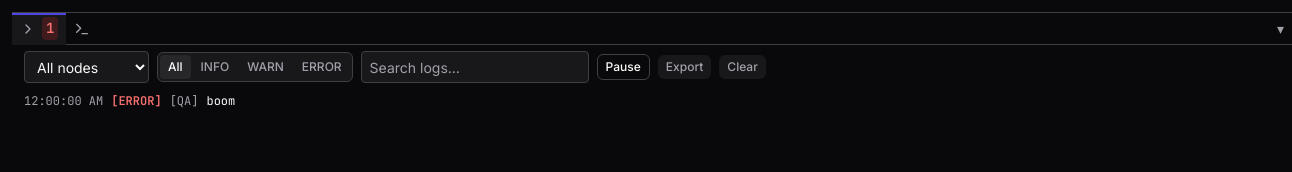
Test: badge de erros aparece UMA vez no tab bar — não duplica no hint colapsado (T8 F3)
The width and height of the screenshot is (1292, 172).
expect the button named "Console" reads "1": met, box [12,12,66,44]
What coordinates should you click on to do the following:
click the button named "Collapse console"
I would click on:
 (1280, 28)
Its box is [1273,14,1288,43].
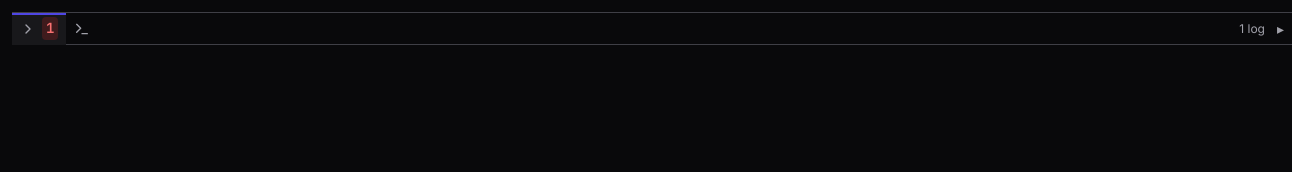
expect the button named "Console" reads "1": met, box [12,12,66,44]
expect the text "1 log" is shown: met, box [1239,20,1265,36]
expect the button "ERROR" is gone: met
